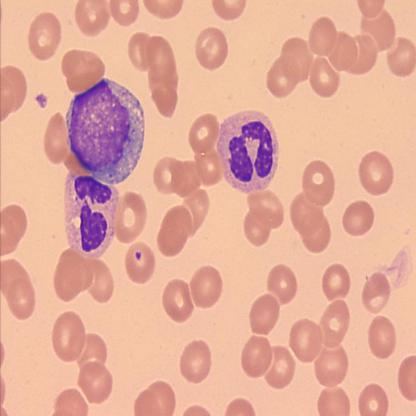Myelocyte: (68, 78, 144, 184)
